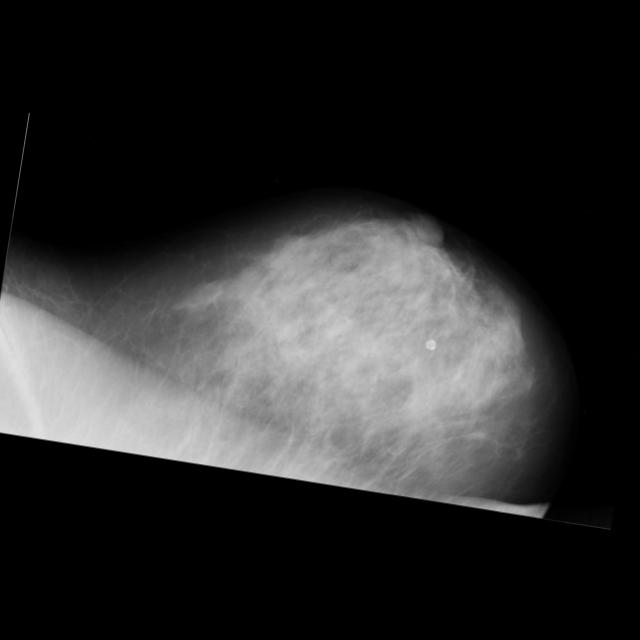CALC: (6, 0, 402, 315)
